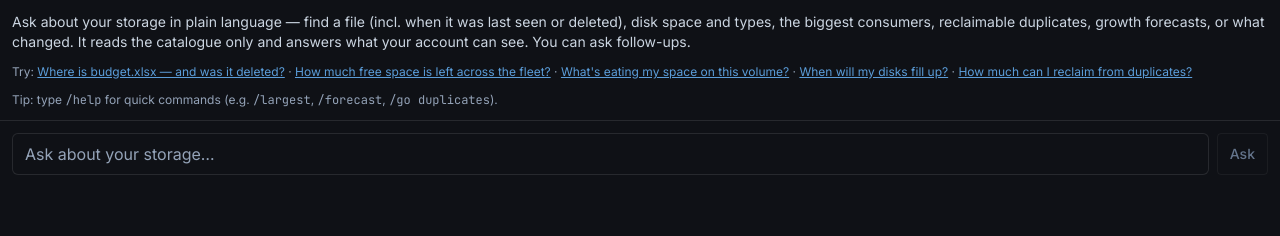
Test case: /scope with no match reports it (non-alert) and leaves the scope alone
Type "/scope zzz" into the field named "your question" at (610, 154), box [12,133,1209,175]
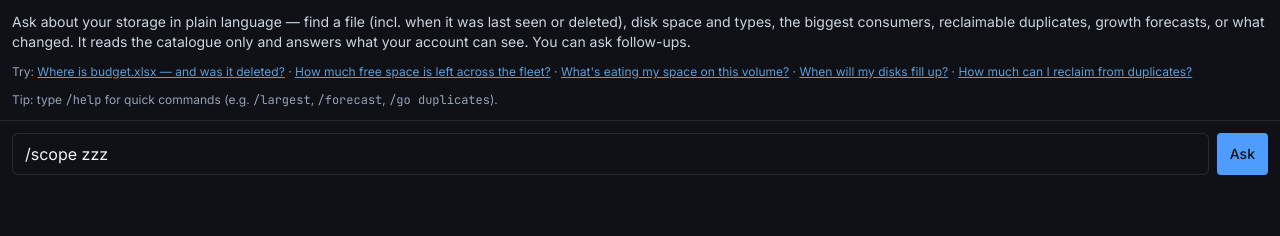
Click the button "Ask" at (1242, 154), box [1217,133,1268,175]
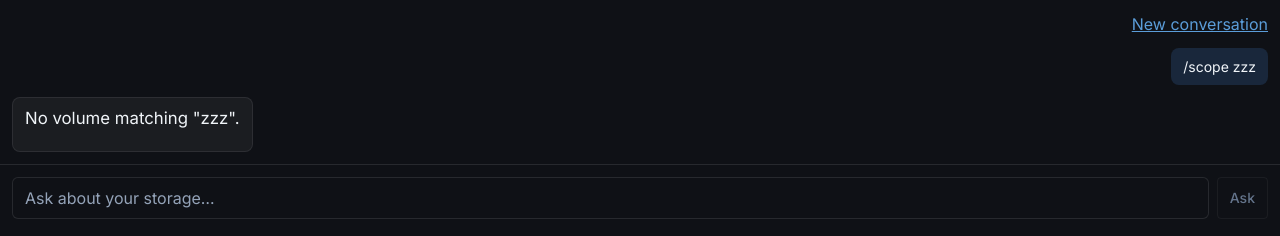
Check: the text "No volume matching \"zzz\"." is shown, box [25,106,240,131]
